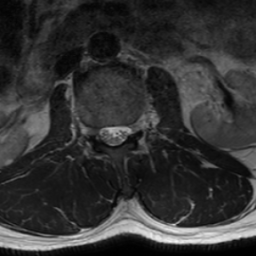CCS_normal: (108, 116, 120, 155)
LFS_normal: (130, 111, 139, 142)
LLS_normal: (120, 115, 131, 150)
RFS_normal: (87, 114, 98, 144)
RLS_normal: (98, 115, 108, 151)
